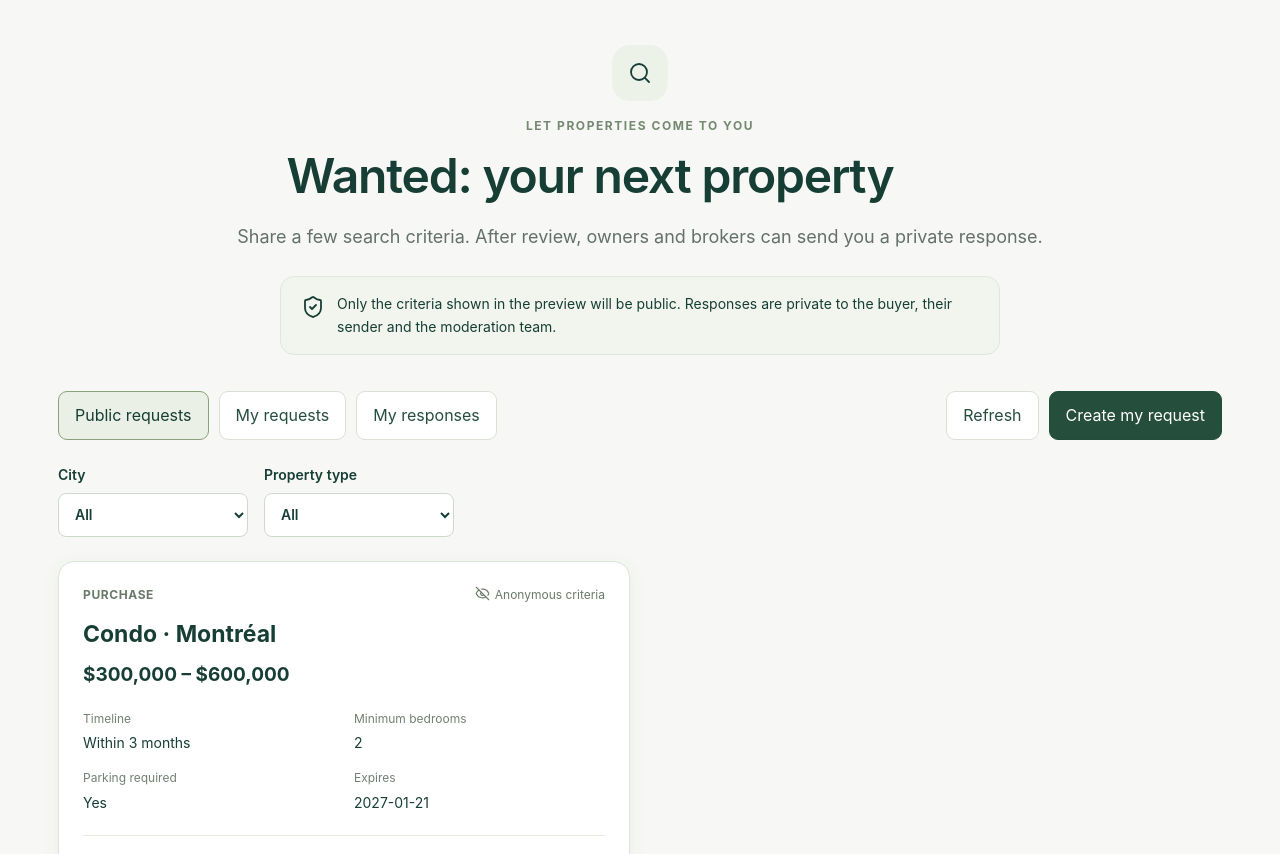
Scenario: keeps consent unchecked, previews only structured criteria and submits for moderation with an idempotency key
Click the button "Create my request". click: click(1135, 416)
box: [1048,391,1222,440]
(page scrolled)
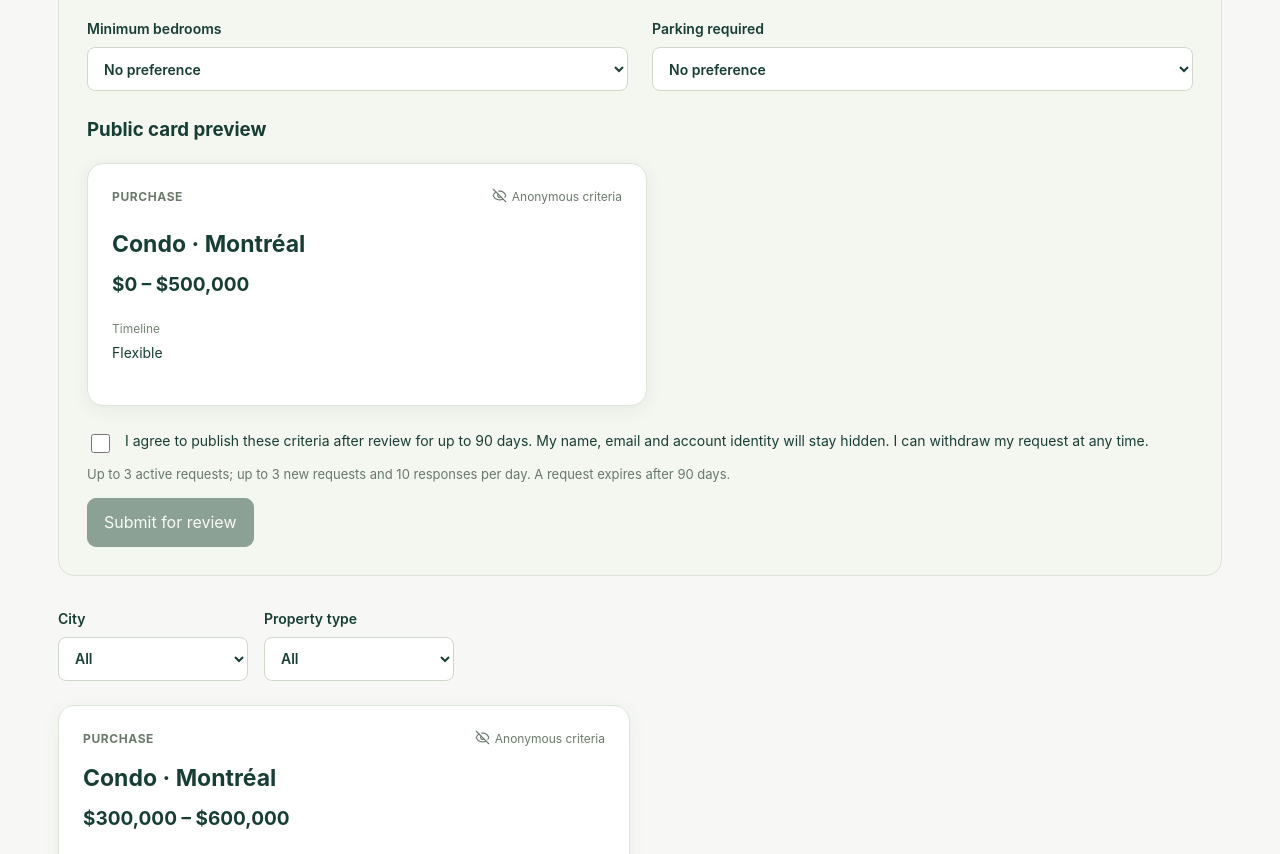
Now the checkbox is not checked
Now the submit button is disabled, box [87,498,254,547]
Now the element with class "wanted-create" shows "Public card preview", box [87,118,266,141]
Click the checkbox. click: click(100, 444)
box: [91,434,110,453]
(page scrolled)
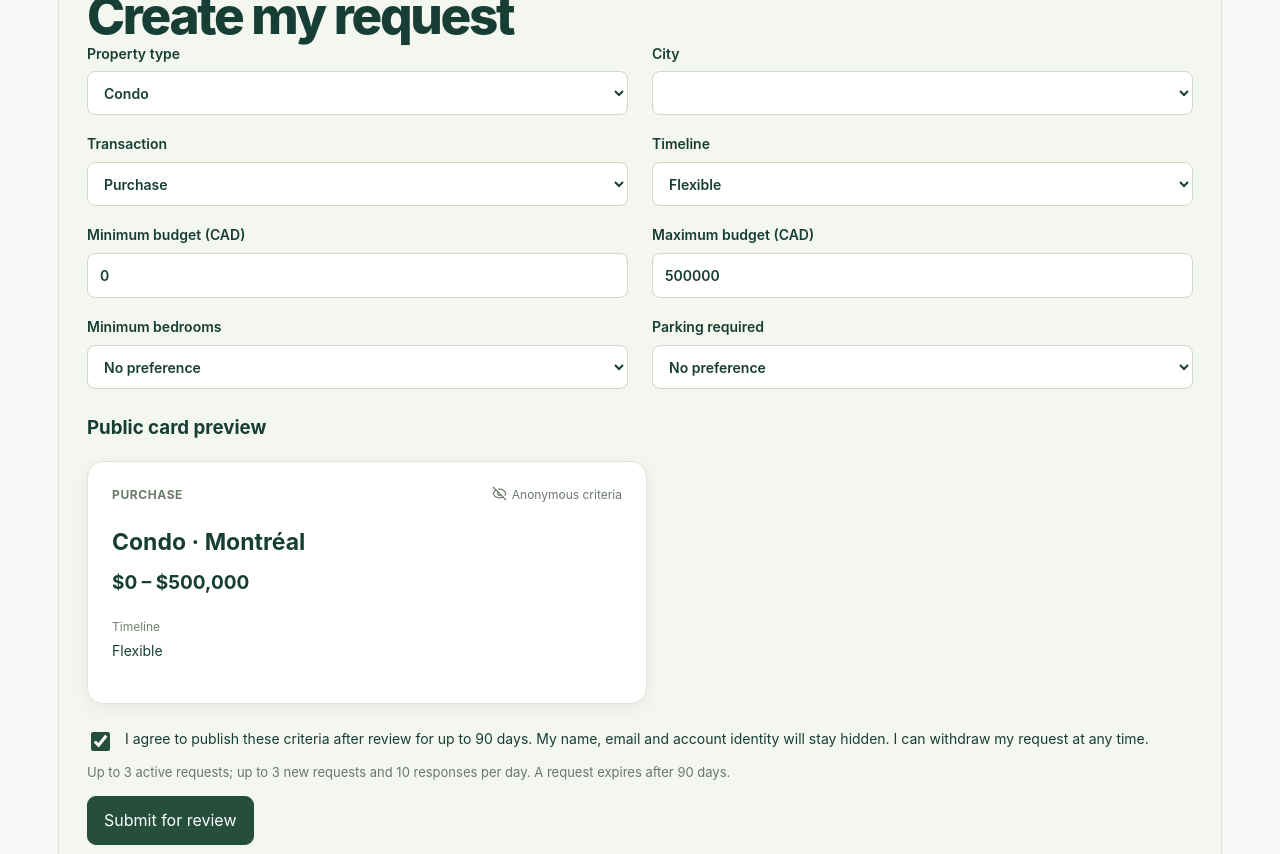
Submit the form
(page scrolled)
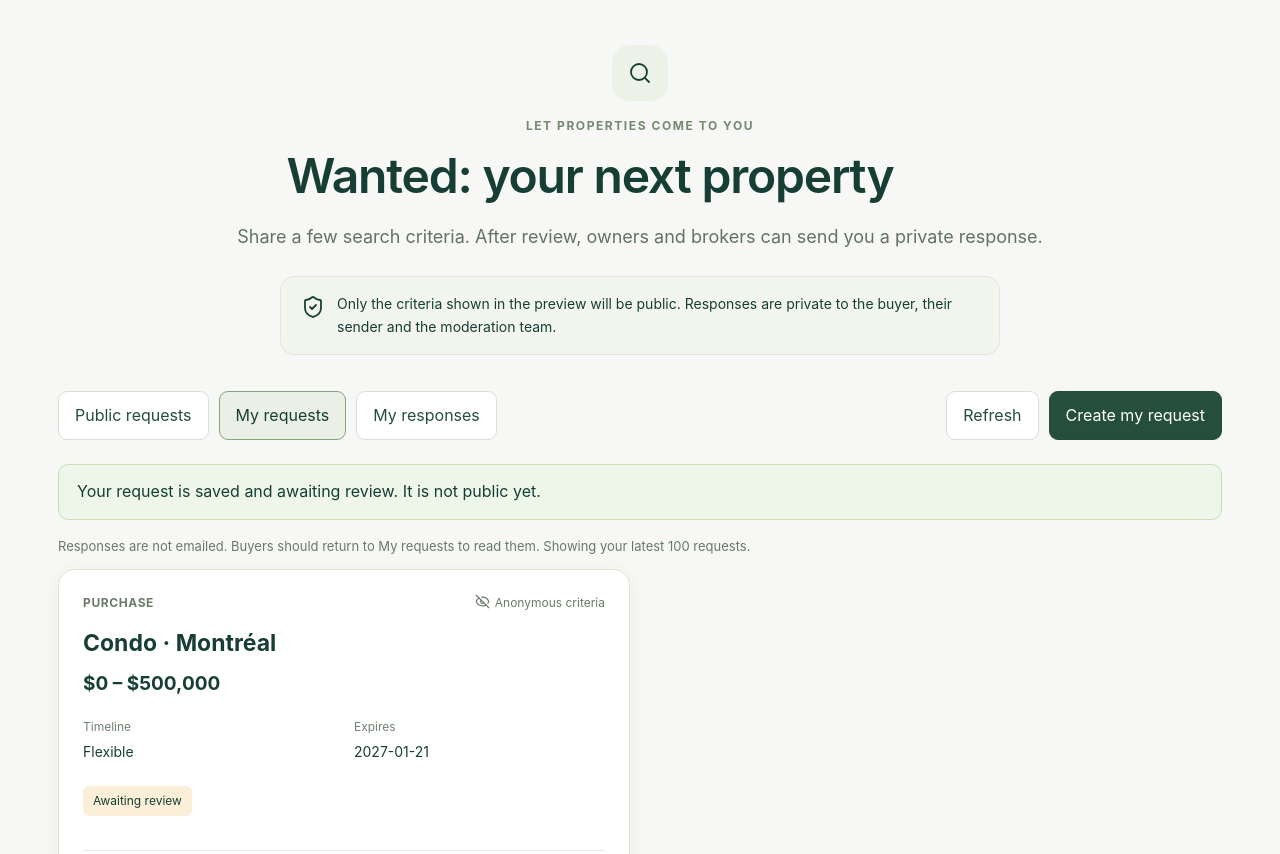
Now the text "It is not public yet" is shown, box [77,481,541,501]
Now the text "awaiting review" is shown, box [77,481,541,501]
Now the text "Responses are not emailed" is shown, box [58,538,540,554]
